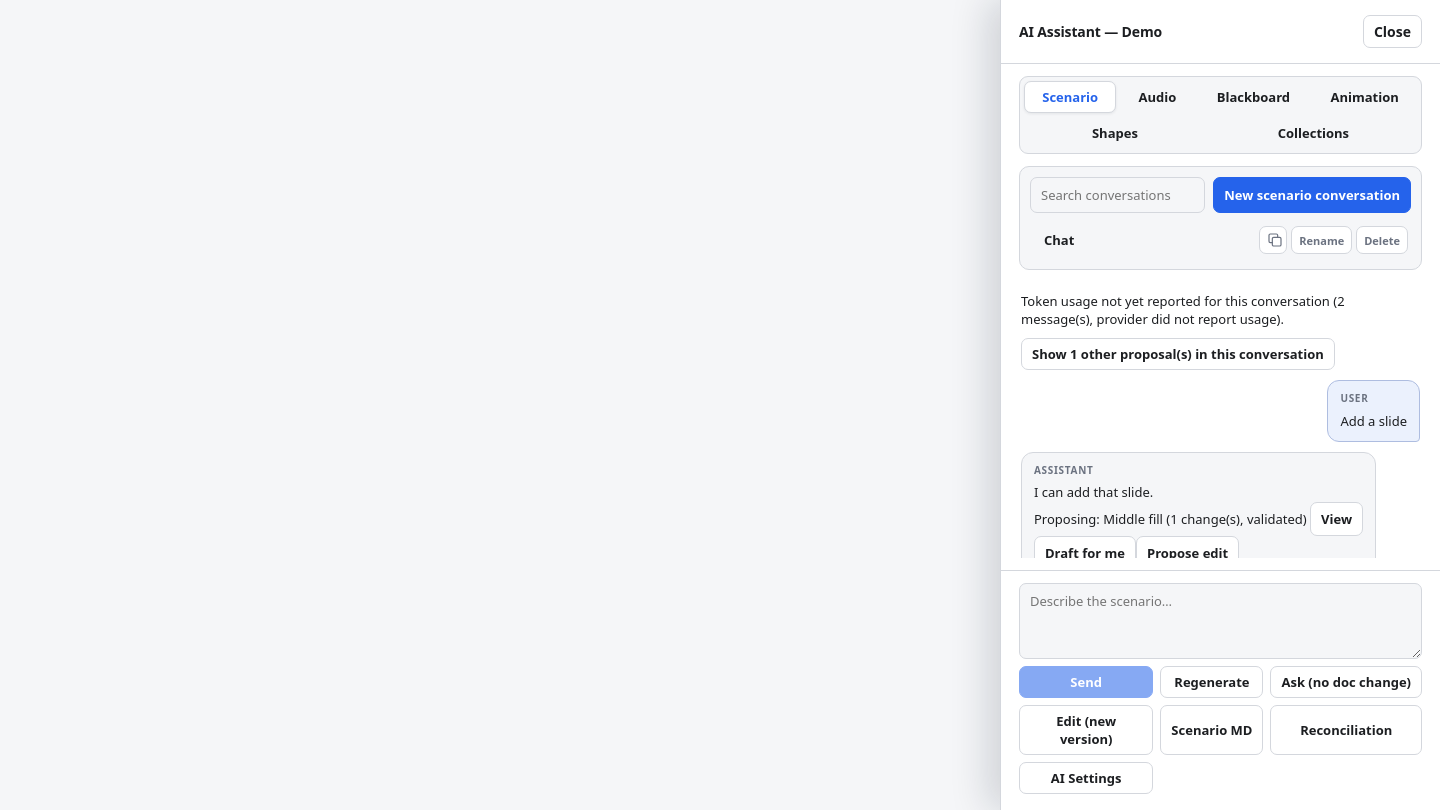
Test: AiPanel inline proposals › opens the review modal from the card and closes it
Click the button with test id "ai-message-proposal-view-prop-1". click: (1337, 519)
box: left=1310, top=502, right=1363, bottom=536
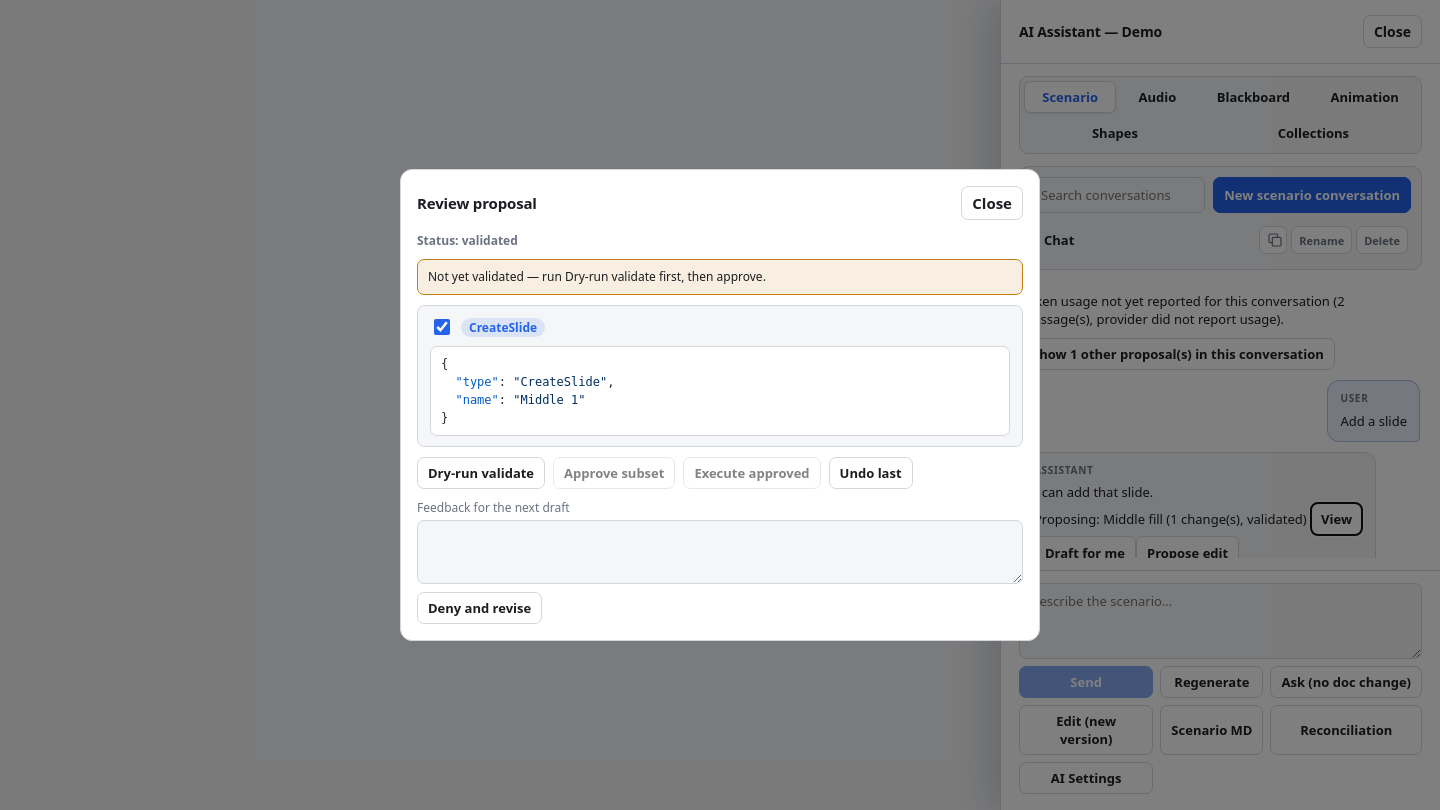
Expected: the dialog with test id "ai-proposal-modal" is shown
Expected: the element with test id "ai-proposal-prop-1" is shown, left=417, top=232, right=1023, bottom=624
Click the button with test id "ai-proposal-modal-close". click: (992, 203)
box: left=961, top=186, right=1023, bottom=220
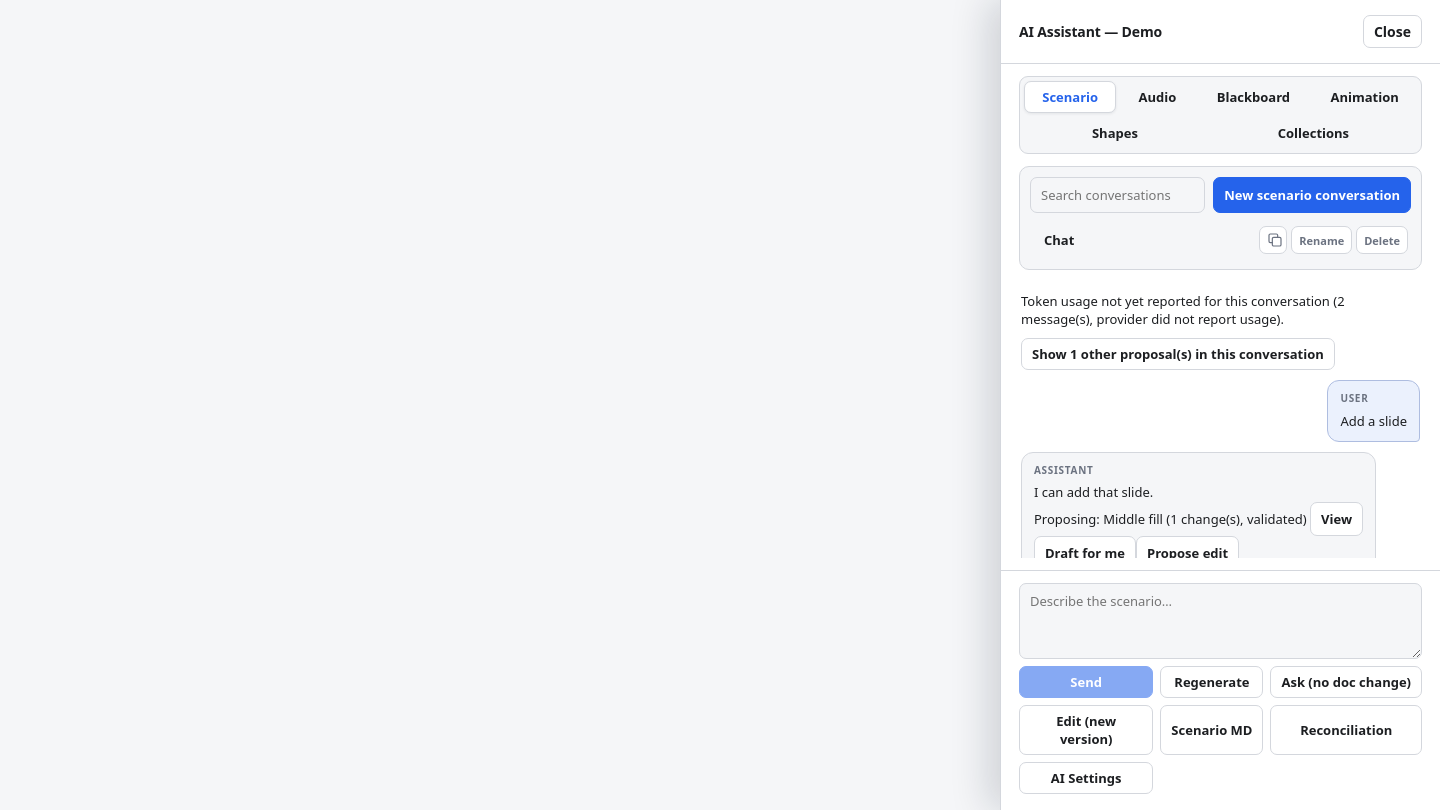
Expected: the dialog with test id "ai-proposal-modal" is gone
